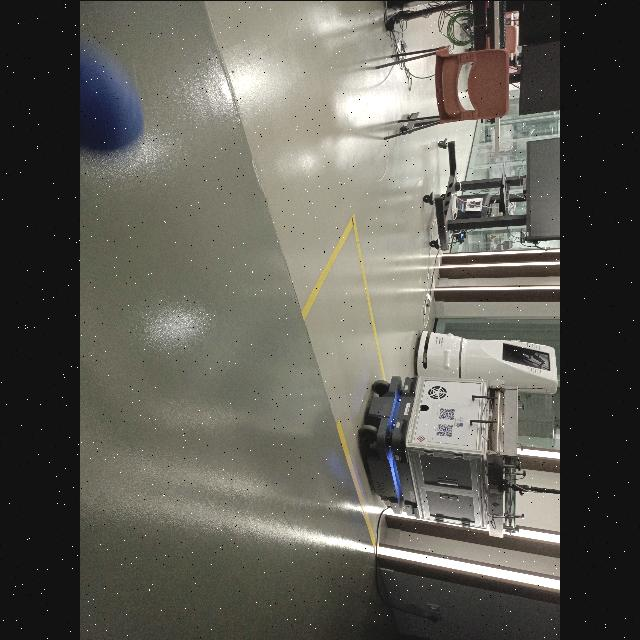B: (80, 36, 144, 150)
